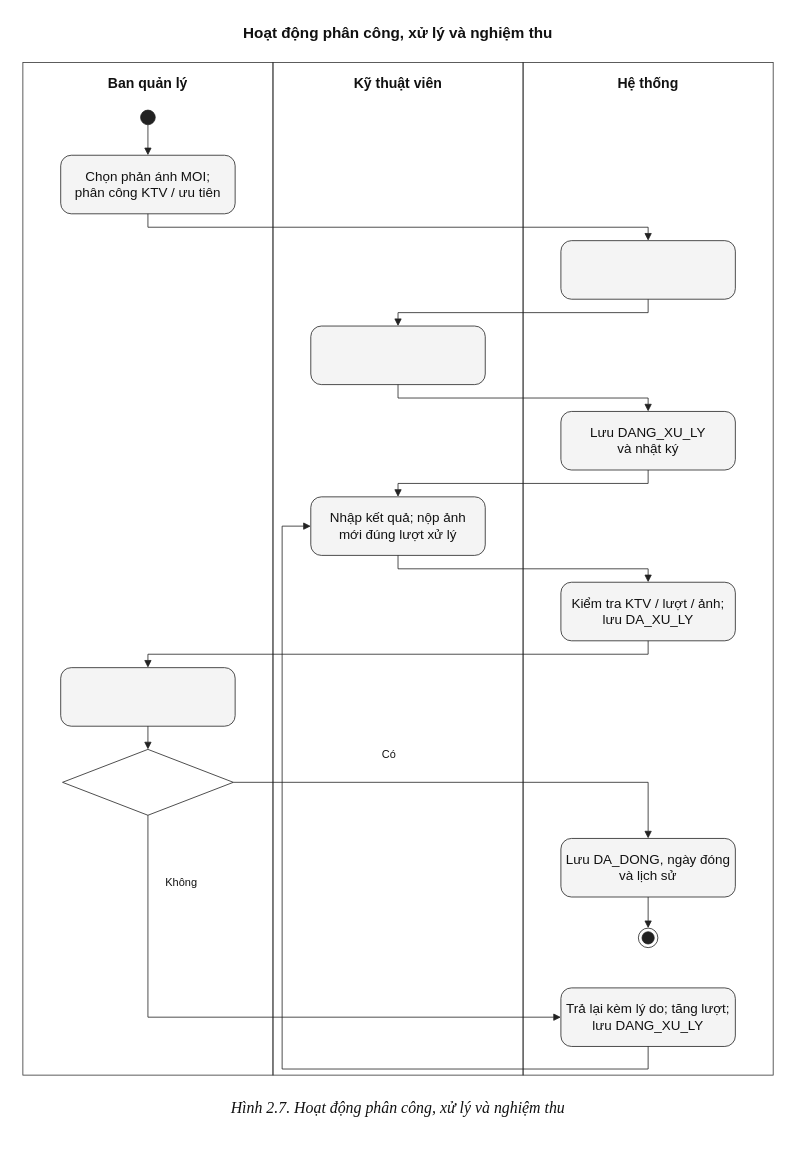
The diagram is 795 pixels wide and 1149 high, and some of its shapes have lost their labels. Each missing label, with the box of its shape:
Kiểm quyền / phiên bản; lưu DA_PHAN_CONG: (560, 240, 735, 299)
Kiểm tra kết quả và bằng chứng: (60, 667, 235, 726)
Mở việc được giao; bấm bắt đầu xử lý: (310, 325, 485, 385)
Nghiệm thu đạt?: (62, 749, 233, 815)
